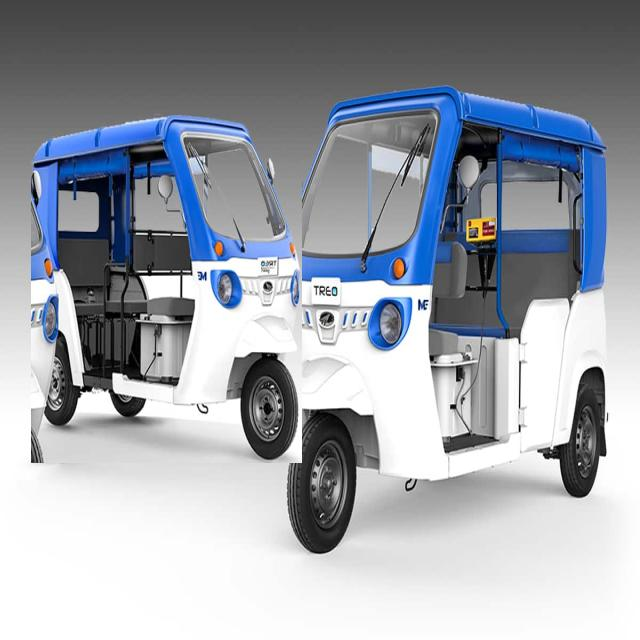autorickshaw: (257, 86, 611, 557), (31, 115, 302, 463)
